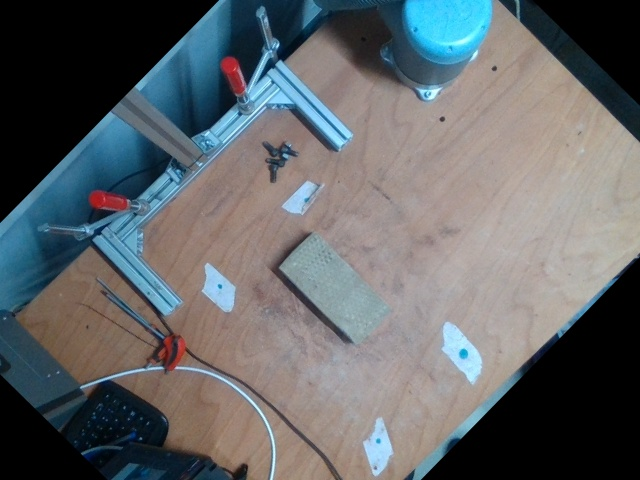brick: (281, 234, 391, 343)
